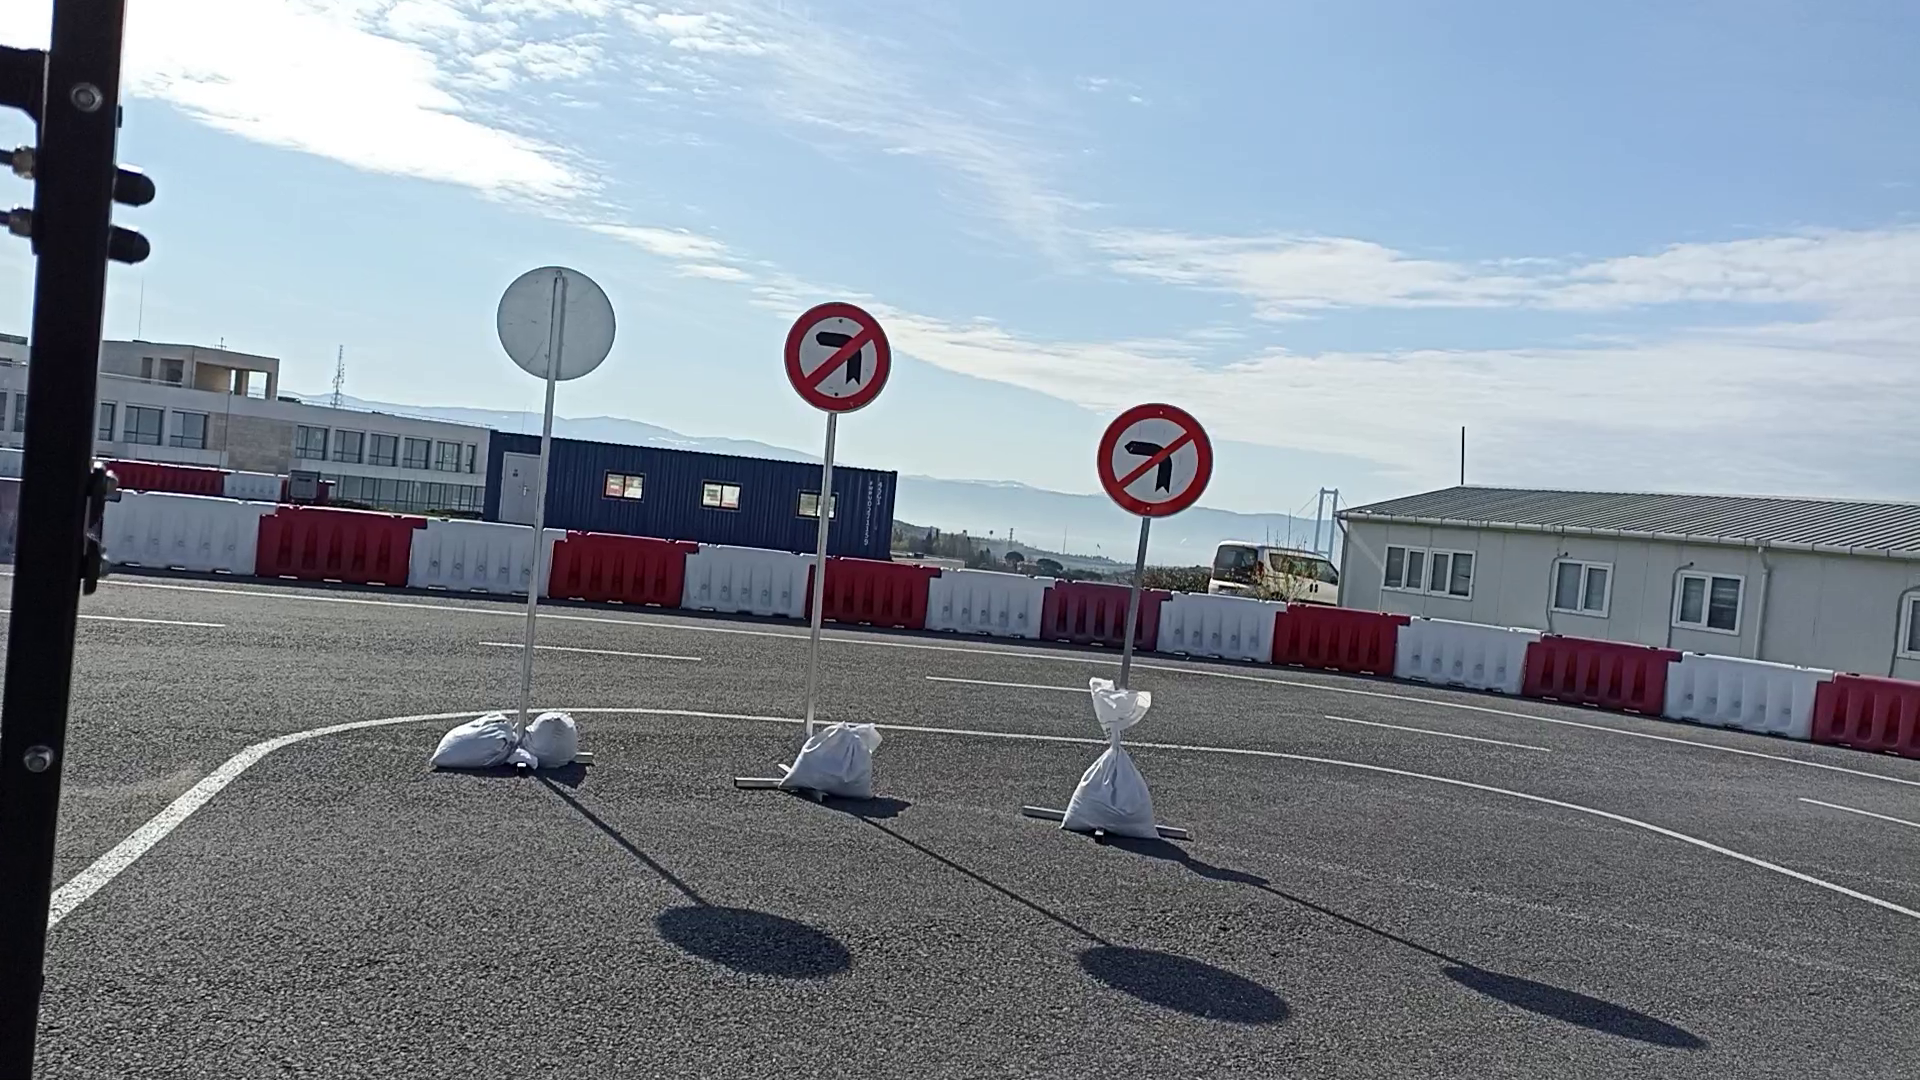noleft: (1095, 400, 1218, 521), (782, 301, 894, 415)
